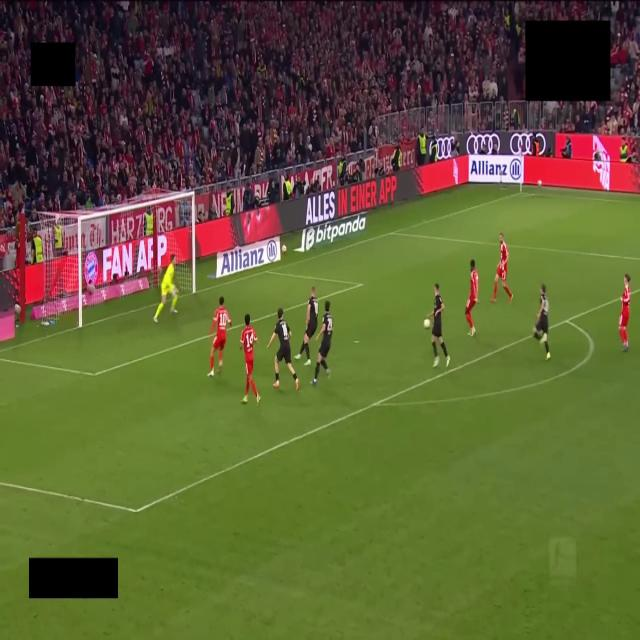ball: (424, 318, 430, 328)
player: (268, 308, 298, 390), (208, 296, 231, 376), (428, 284, 450, 367), (295, 287, 318, 366), (241, 314, 260, 403), (312, 301, 332, 384), (154, 256, 178, 322), (491, 233, 512, 302), (534, 284, 550, 359), (465, 260, 478, 336), (619, 274, 630, 351)
